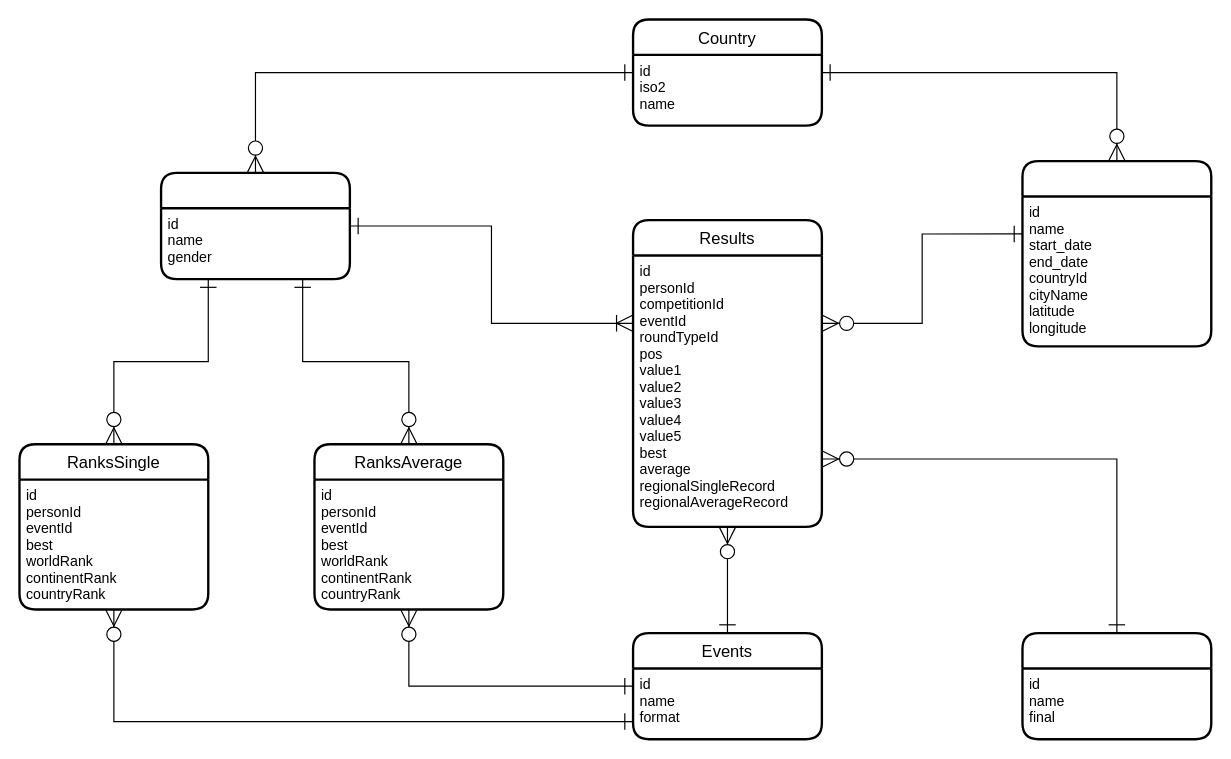
Some shapes in this 1231 by 759 pixel diagram are drawn without their labels. The box of each missing label's shape, as (x1, y1, x2, y2) in pixels:
Competitions: (1021, 159, 1212, 347)
Persons: (159, 171, 350, 280)
RoundTypes: (1021, 631, 1212, 740)
